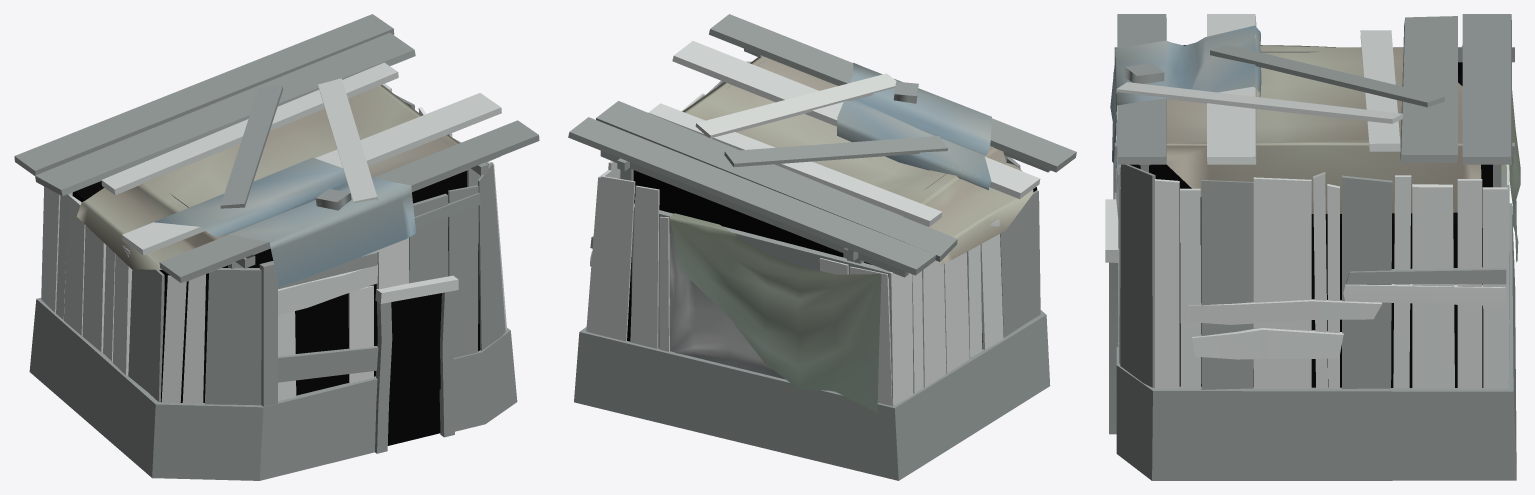
3 renders of one model, left to right at view 1: azimuth 30°, elevation 25°; view 2: azimuth 150°, elevation 25°; view 3: azimuth 270°, elevation 25°, orthographic. The views are drawn at different scales.
Visible parts, largest first — view 1: G:\FFXIV-MapTools\exports\n4f2\bg\ex3\01_nvt_n4\fld\n4f2\bgp (×6); view 2: G:\FFXIV-MapTools\exports\n4f2\bg\ex3\01_nvt_n4\fld\n4f2\bgp (×6); view 3: G:\FFXIV-MapTools\exports\n4f2\bg\ex3\01_nvt_n4\fld\n4f2\bgp (×6).
Boxes of the visible parts, left/top/right/bottom form: G:\FFXIV-MapTools\exports\n4f2\bg\ex3\01_nvt_n4\fld\n4f2\bgp (×6): left=14, top=14, right=539, bottom=480; G:\FFXIV-MapTools\exports\n4f2\bg\ex3\01_nvt_n4\fld\n4f2\bgp (×6): left=568, top=14, right=1076, bottom=480; G:\FFXIV-MapTools\exports\n4f2\bg\ex3\01_nvt_n4\fld\n4f2\bgp (×6): left=1105, top=14, right=1520, bottom=480.
Bounding box in the file's own units: 8.11 × 5.95 × 6.79.
